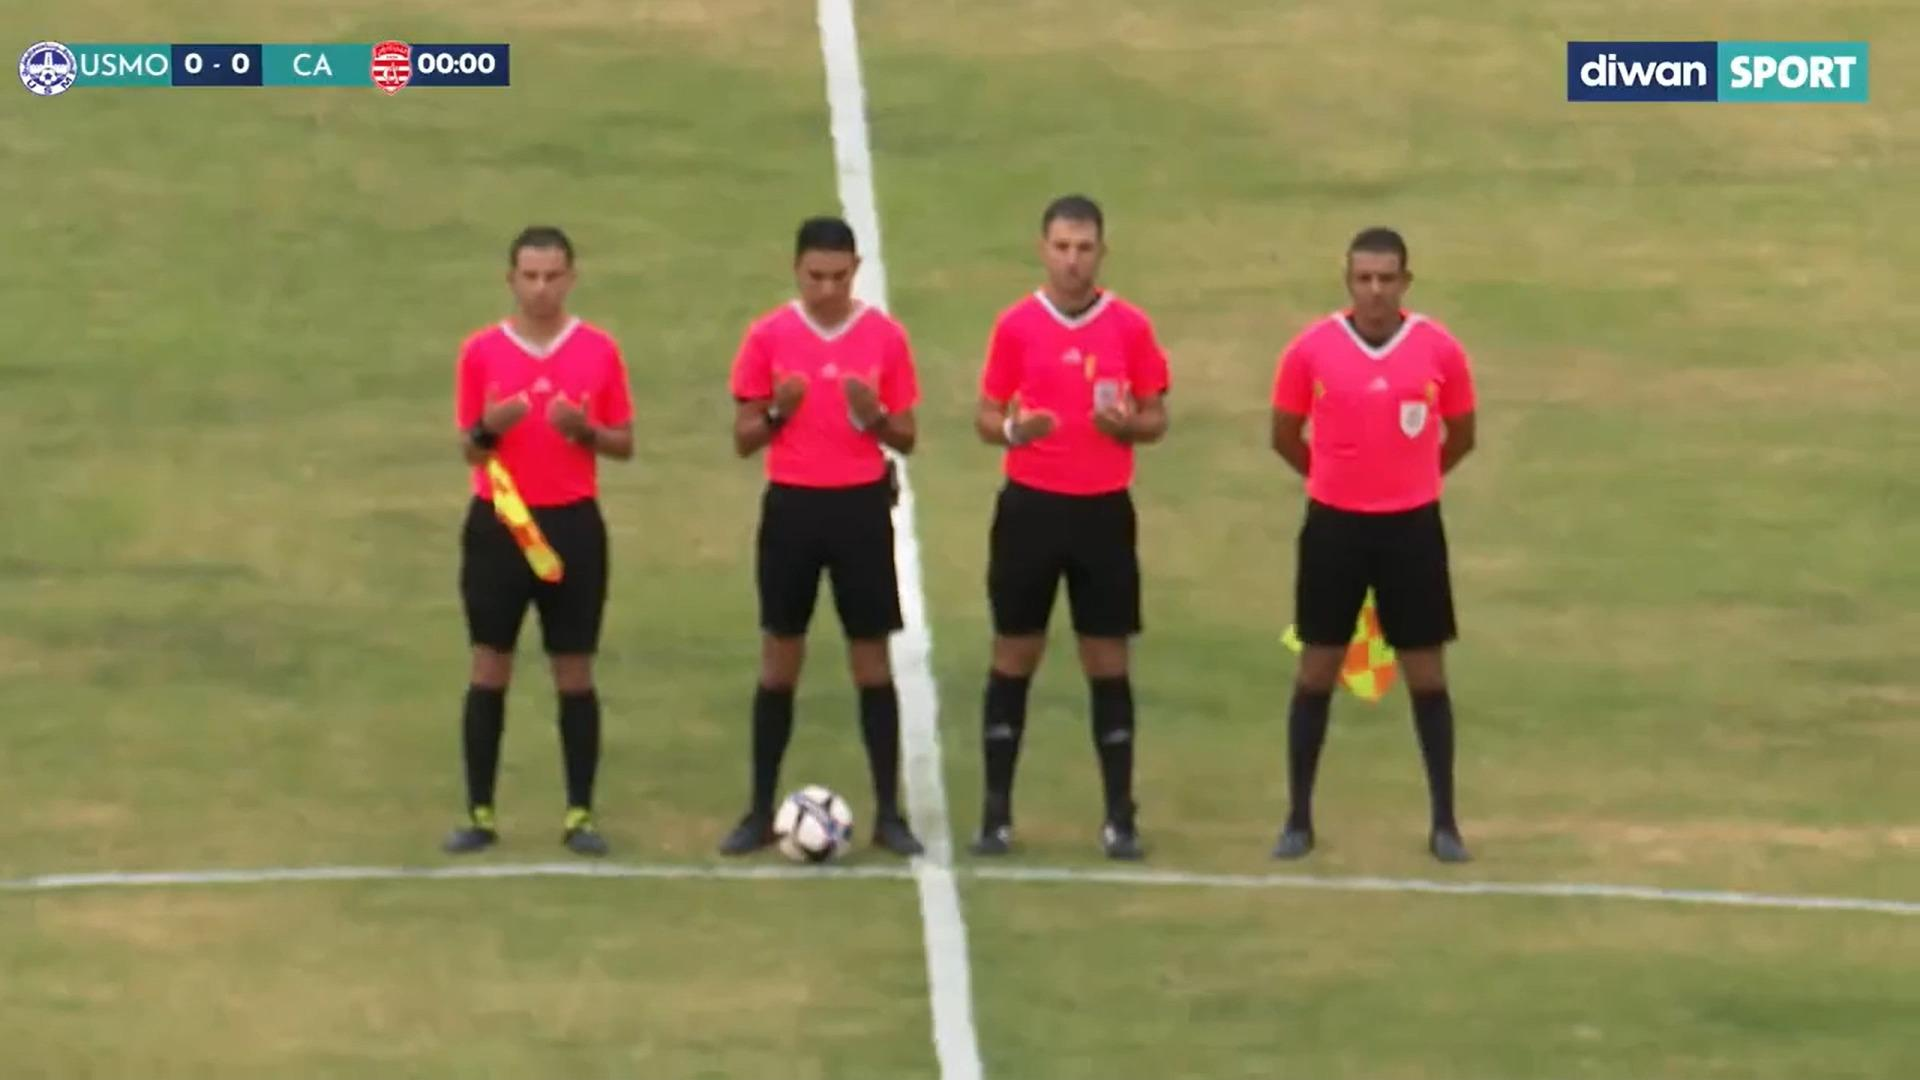ball: (773, 766, 861, 889)
referee: (1258, 198, 1497, 881), (971, 198, 1191, 870), (717, 215, 935, 872), (440, 214, 645, 868)
